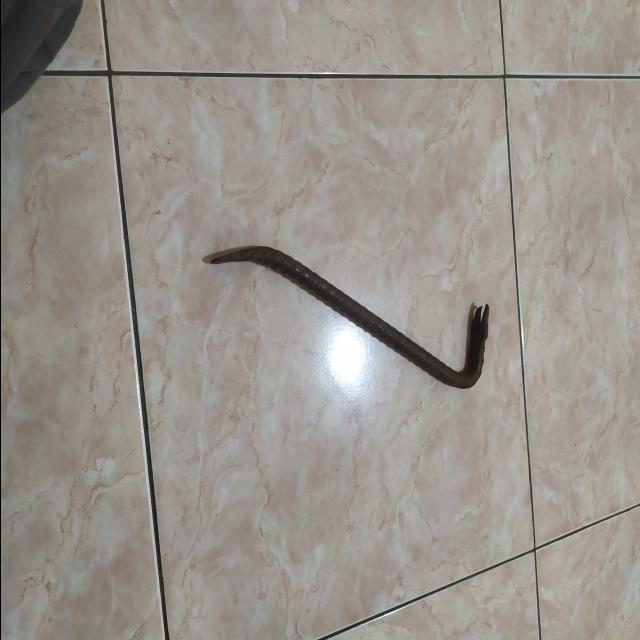Linggis: (209, 242, 491, 392)
